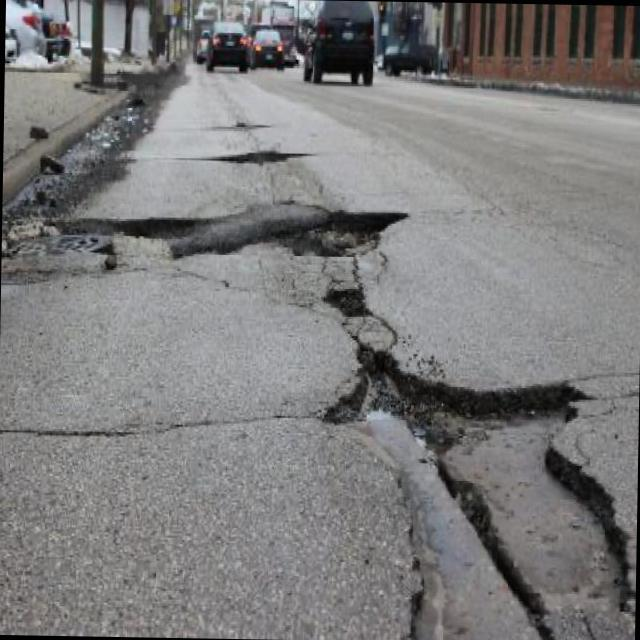Pothole: (323, 337, 635, 640), (73, 203, 406, 256), (323, 285, 378, 319), (205, 151, 303, 161)
